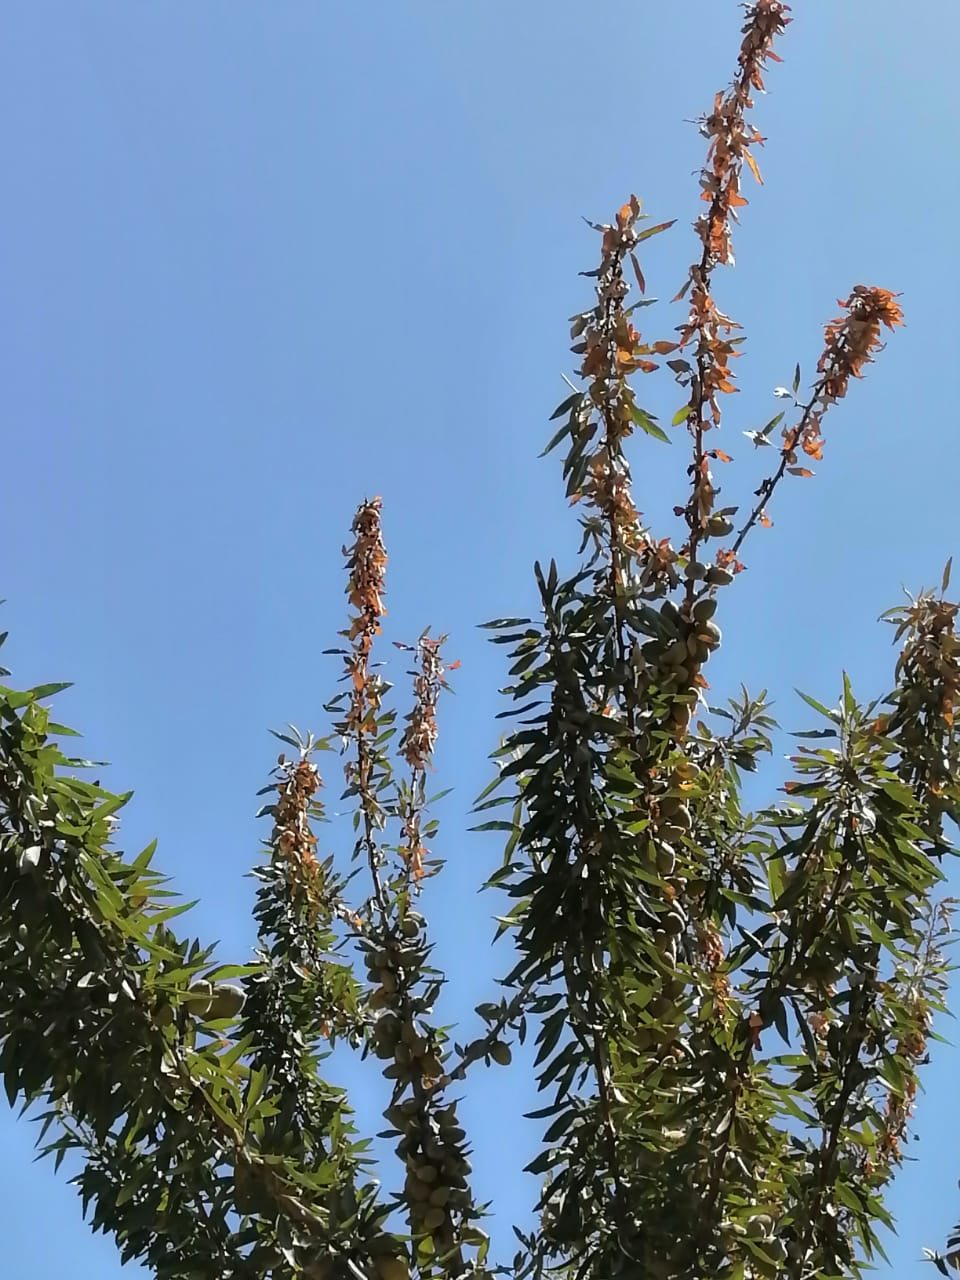scolytes: (657, 1, 790, 480), (714, 279, 907, 571), (555, 194, 655, 560), (325, 494, 392, 796), (398, 623, 440, 891)
